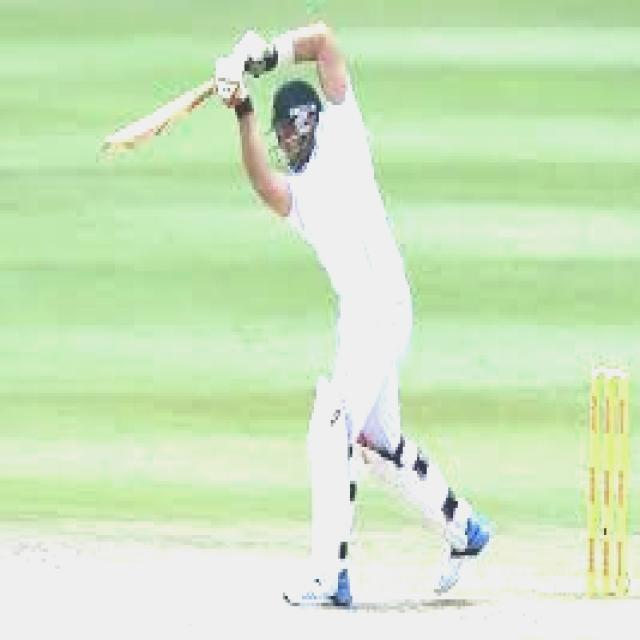bat: (98, 83, 216, 163)
toe: (100, 141, 130, 155)
